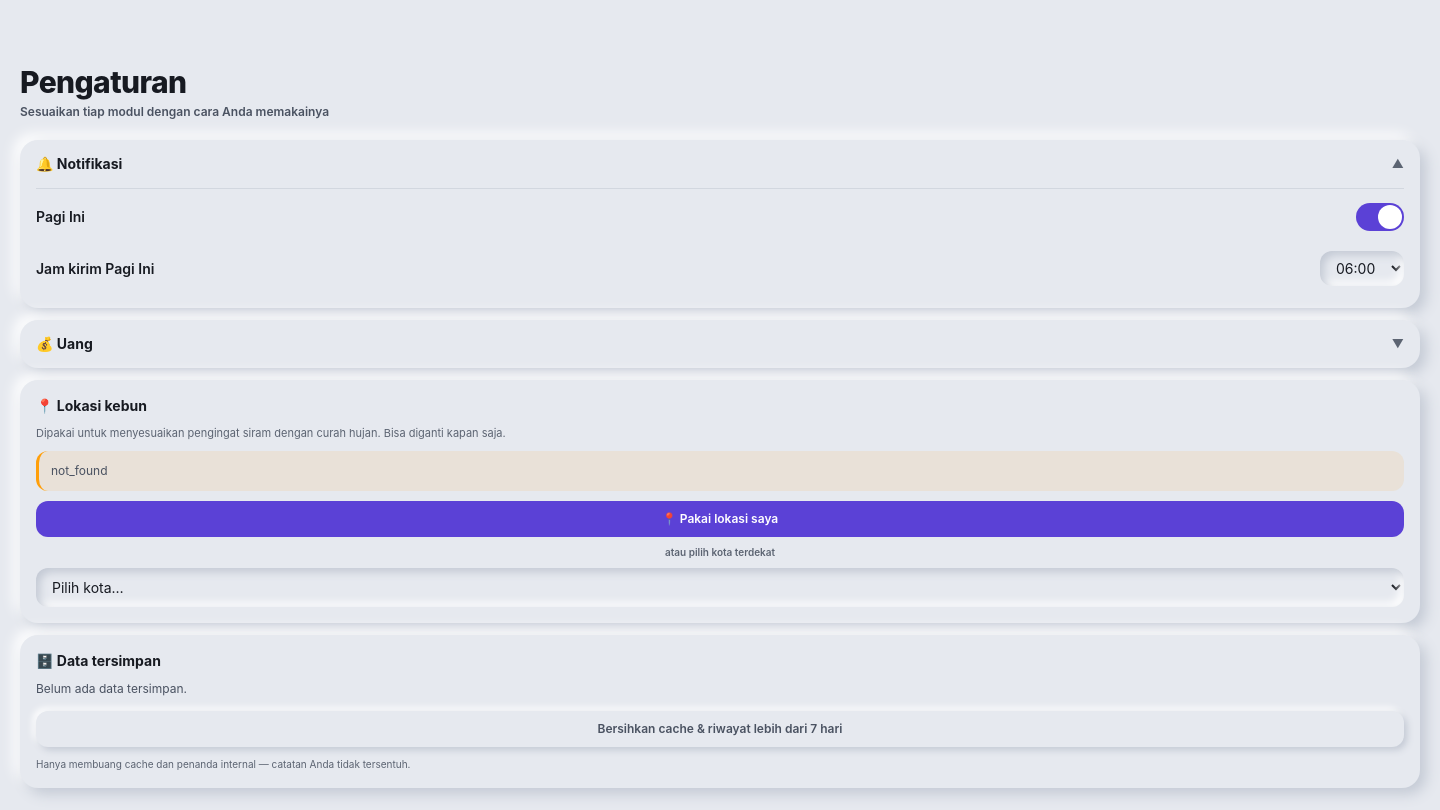
Pengaturan › menampilkan penjelasan pengaturan bila ada
Click the text "💰 Uang".
click(64, 344)  # box [36,334,93,354]
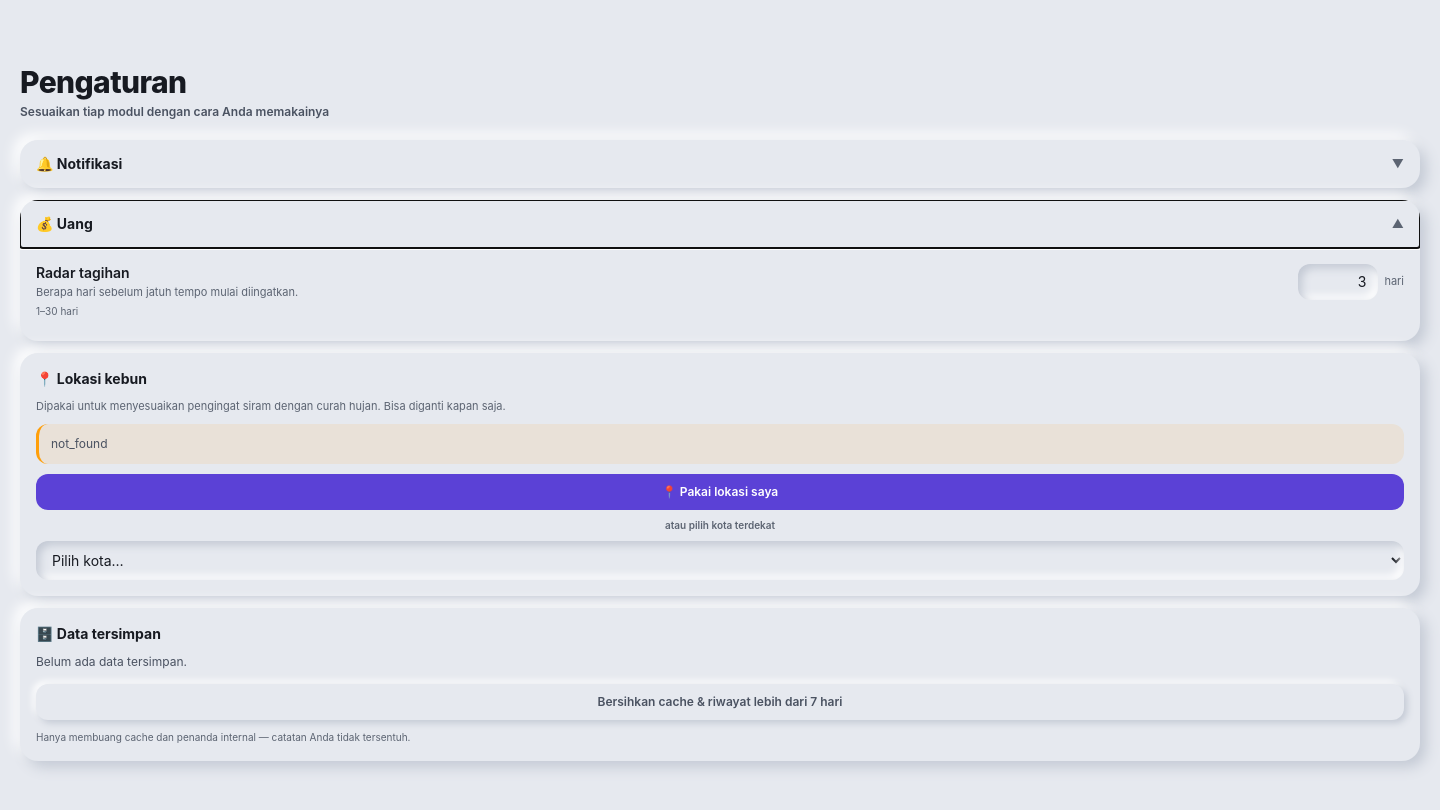
Now the text "Berapa hari sebelum jatuh tempo mulai diingatkan." is shown, box [36,285,298,300]
